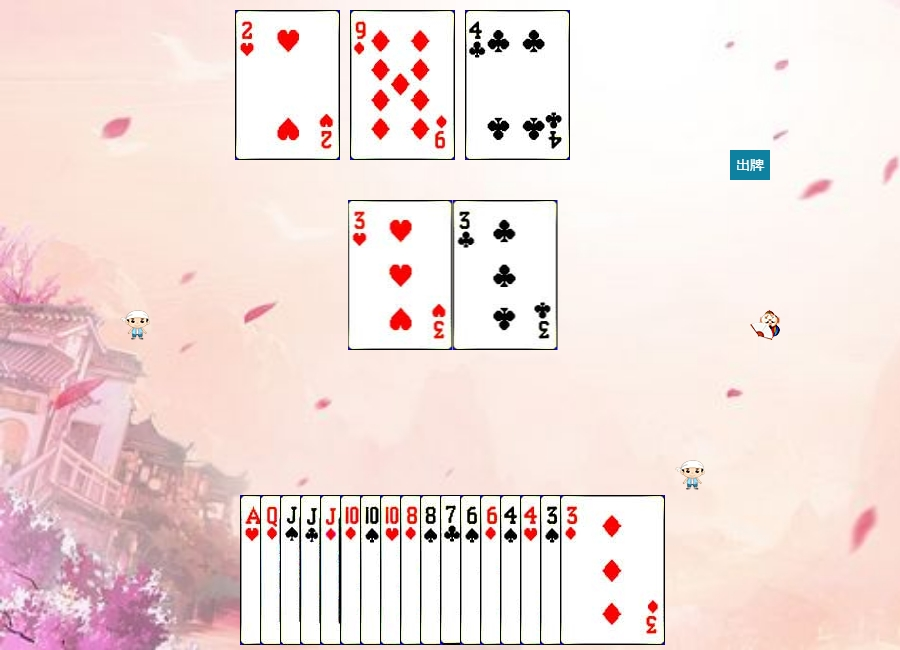10~1: (340, 495, 445, 645)
10~3: (380, 495, 485, 645)
10~4: (360, 495, 465, 645)
11~1: (320, 495, 425, 645)
11~2: (300, 495, 405, 645)
11~4: (280, 495, 385, 645)
12~1: (260, 495, 365, 645)
14~3: (240, 495, 345, 645)
15~3: (235, 10, 340, 160)
3~1: (560, 495, 665, 645)
3~2: (453, 200, 558, 350)
3~3: (348, 200, 453, 350)
3~4: (540, 495, 645, 645)
4~2: (465, 10, 570, 160)
4~3: (520, 495, 625, 645)
4~4: (500, 495, 605, 645)
6~1: (480, 495, 585, 645)
6~4: (460, 495, 565, 645)
7~2: (440, 495, 545, 645)
8~1: (400, 495, 505, 645)
8~4: (420, 495, 525, 645)
9~1: (350, 10, 455, 160)
